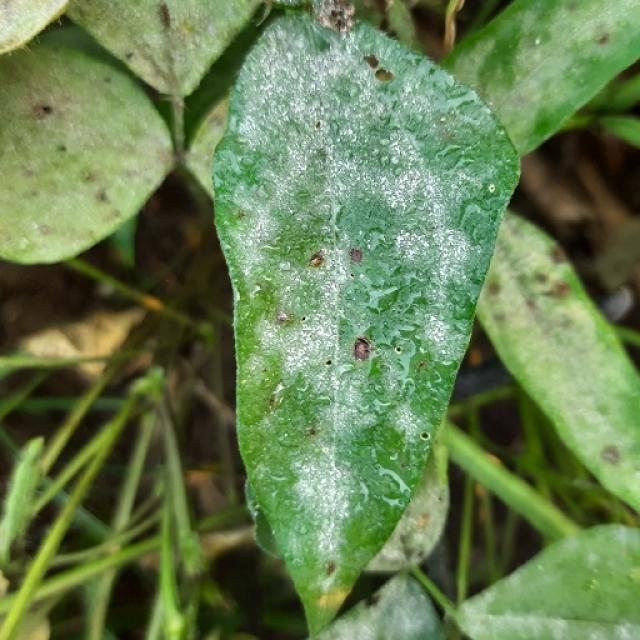Blackgram: (215, 8, 518, 634)
Powdery_Mildew: (267, 64, 402, 214), (479, 7, 626, 125), (234, 311, 322, 489), (260, 56, 331, 181), (268, 300, 341, 387), (453, 193, 498, 242)
